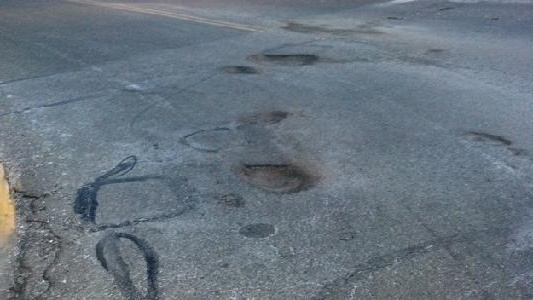pothole: (3, 189, 62, 299), (232, 161, 313, 195), (246, 50, 319, 68), (460, 129, 512, 151), (219, 63, 258, 77)
